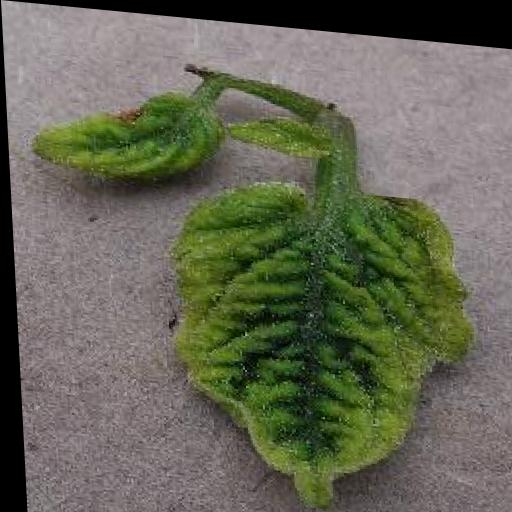Yellow Leaf Curl Virus: (164, 175, 481, 512), (26, 78, 220, 188), (225, 104, 343, 155)
